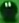black: (0, 0, 19, 23)
